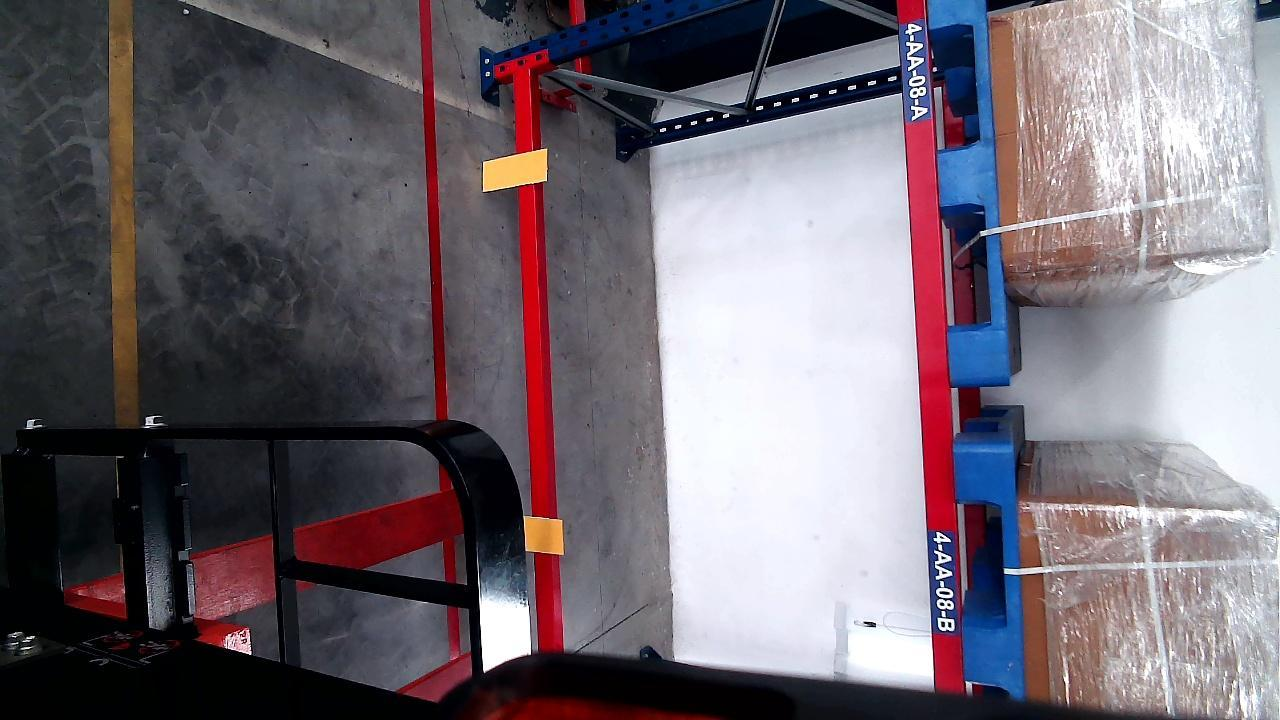red_line: (419, 0, 450, 425)
yellow_line: (109, 0, 139, 425)
